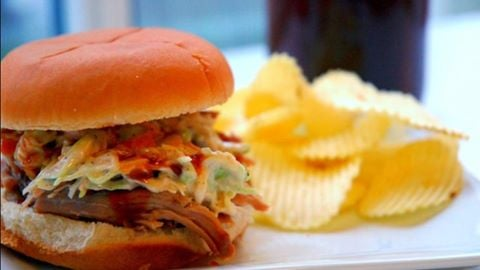soup: (0, 24, 269, 265)
